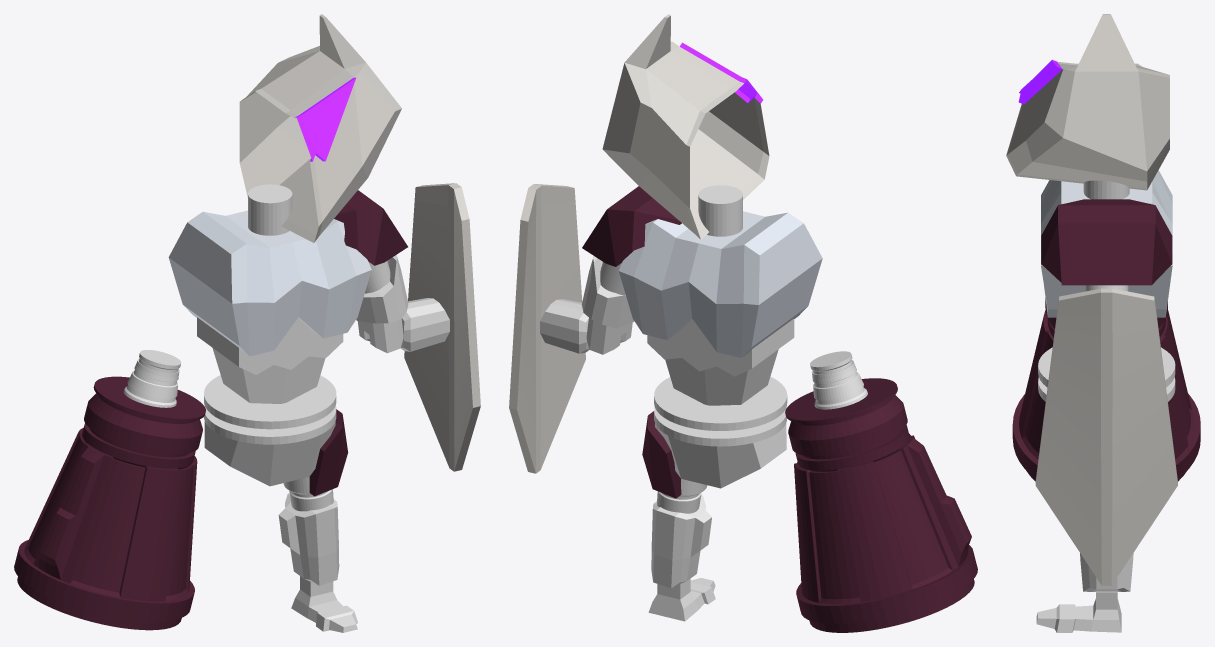
The model's file is Mech.glb.
3 renders of one model, left to right at view 1: azimuth 30°, elevation 25°; view 2: azimuth 150°, elevation 25°; view 3: azimuth 270°, elevation 25°, orthographic. The views are drawn at different scales.
Visible parts, largest first — view 1: Cylinder.005, Cube, Cube.003, Plane, Cylinder.001, Cube.008, Cube.010, Cube.002, Cube.004, Cube.001, Cylinder.004, Cube.011 (+7 smaller); view 2: Cylinder.005, Cube, Cube.003, Plane, Cylinder.001, Cube.008, Cube.010, Cube.001, Cube.002, Cube.004, Cylinder.004, Cylinder.002 (+7 smaller); view 3: Plane, Cube, Cube.001, Cylinder.005, Cube.003, Cube.011, Cube.010, Cylinder, Cylinder.001, Cylinder.002.
Part boxes in pixels (x1,y1,x2,y2): Cylinder.005: (14, 376, 205, 630); Cube: (239, 14, 401, 242); Cube.003: (168, 210, 371, 356); Plane: (404, 183, 480, 471); Cylinder.001: (204, 375, 336, 429); Cube.008: (204, 421, 335, 486); Cube.010: (278, 493, 339, 585); Cube.002: (197, 317, 343, 374); Cube.004: (212, 348, 325, 403); Cube.001: (334, 190, 407, 265); Cylinder.004: (123, 350, 181, 407); Cube.011: (291, 576, 357, 632); Cylinder.005: (785, 378, 977, 632); Cube: (602, 14, 769, 239); Cube.003: (618, 211, 822, 357); Plane: (509, 184, 585, 473); Cylinder.001: (654, 376, 787, 430); Cube.008: (655, 423, 786, 488); Cube.010: (651, 495, 711, 588); Cube.001: (582, 186, 681, 266); Cube.002: (647, 318, 794, 376); Cube.004: (665, 349, 778, 405); Cylinder.004: (810, 351, 867, 409); Cylinder.002: (654, 407, 787, 446); Plane: (1035, 288, 1177, 585); Cube: (1006, 14, 1169, 190); Cube.001: (1041, 199, 1172, 285); Cylinder.005: (1012, 298, 1200, 481); Cube.003: (1041, 170, 1172, 317); Cube.011: (1036, 591, 1121, 632); Cube.010: (1080, 553, 1133, 591); Cylinder: (1083, 180, 1129, 199); Cylinder.001: (1038, 347, 1175, 387); Cylinder.002: (1038, 377, 1175, 401).
Bounding box in the file's own units: 1.36 × 1.78 × 0.5116.
